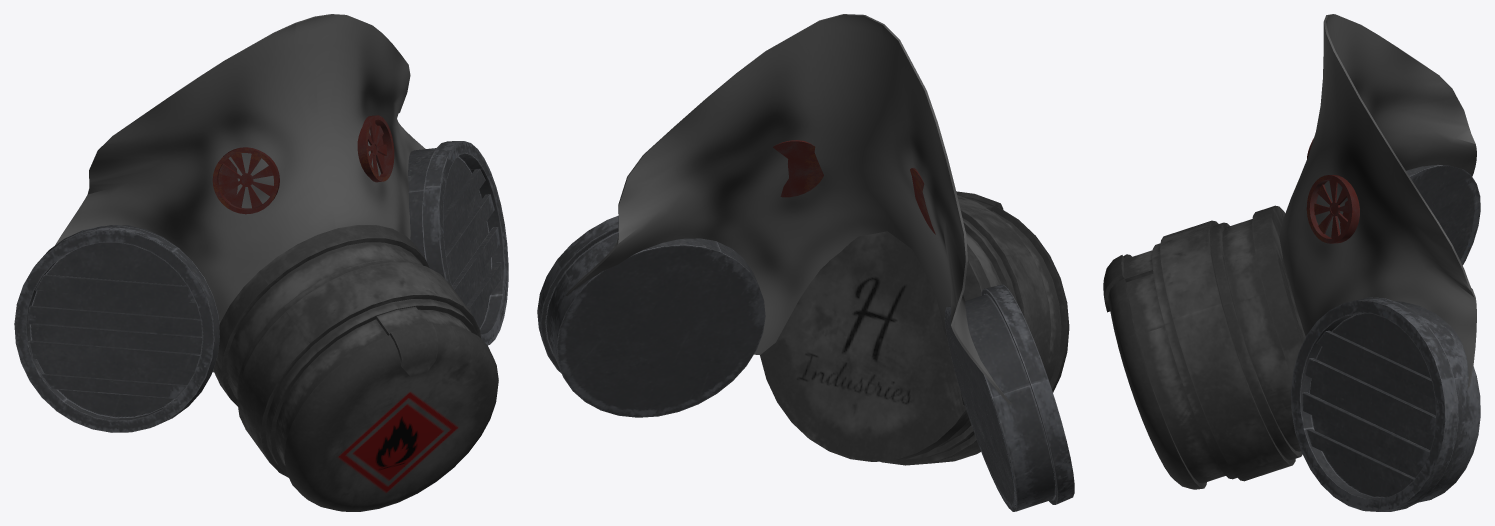
File: MaskWithTex.fbx
3 views of the same model, side by side, from view 1: azimuth 30°, elevation 25°; view 2: azimuth 150°, elevation 25°; view 3: azimuth 270°, elevation 25° (orthographic). The views are drawn at different scales.
Visible parts, largest first — view 1: Circle, Plane.004, Circle.001, Circle.002; view 2: Plane.004, Circle.001, Circle, Circle.002; view 3: Circle, Plane.004, Circle.001, Circle.002.
Boxes of the visible parts, x1=… form: Circle: x1=213, y1=225, x2=498, y2=511; Plane.004: x1=55, y1=14, x2=425, y2=372; Circle.001: x1=14, y1=141, x2=508, y2=432; Circle.002: x1=212, y1=115, x2=394, y2=214; Plane.004: x1=566, y1=14, x2=1011, y2=405; Circle.001: x1=537, y1=215, x2=1074, y2=511; Circle: x1=760, y1=191, x2=1069, y2=465; Circle.002: x1=773, y1=140, x2=935, y2=234; Circle: x1=1103, y1=205, x2=1305, y2=489; Plane.004: x1=1279, y1=14, x2=1476, y2=388; Circle.001: x1=1291, y1=164, x2=1480, y2=511; Circle.002: x1=1306, y1=138, x2=1359, y2=243.
Size of the model in its own units: 22.57 by 19.62 by 14.67.
4 materials, 4 textured.
